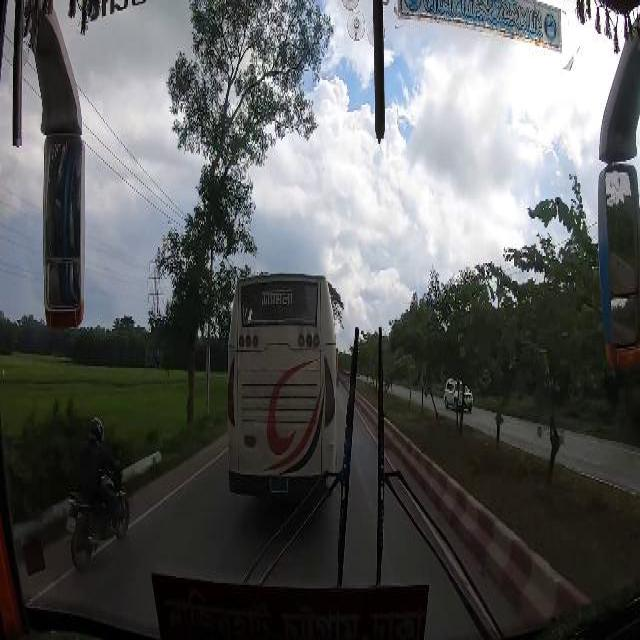10: (70, 412, 130, 566)
15: (443, 376, 472, 410)
Truck: (223, 270, 339, 494)
